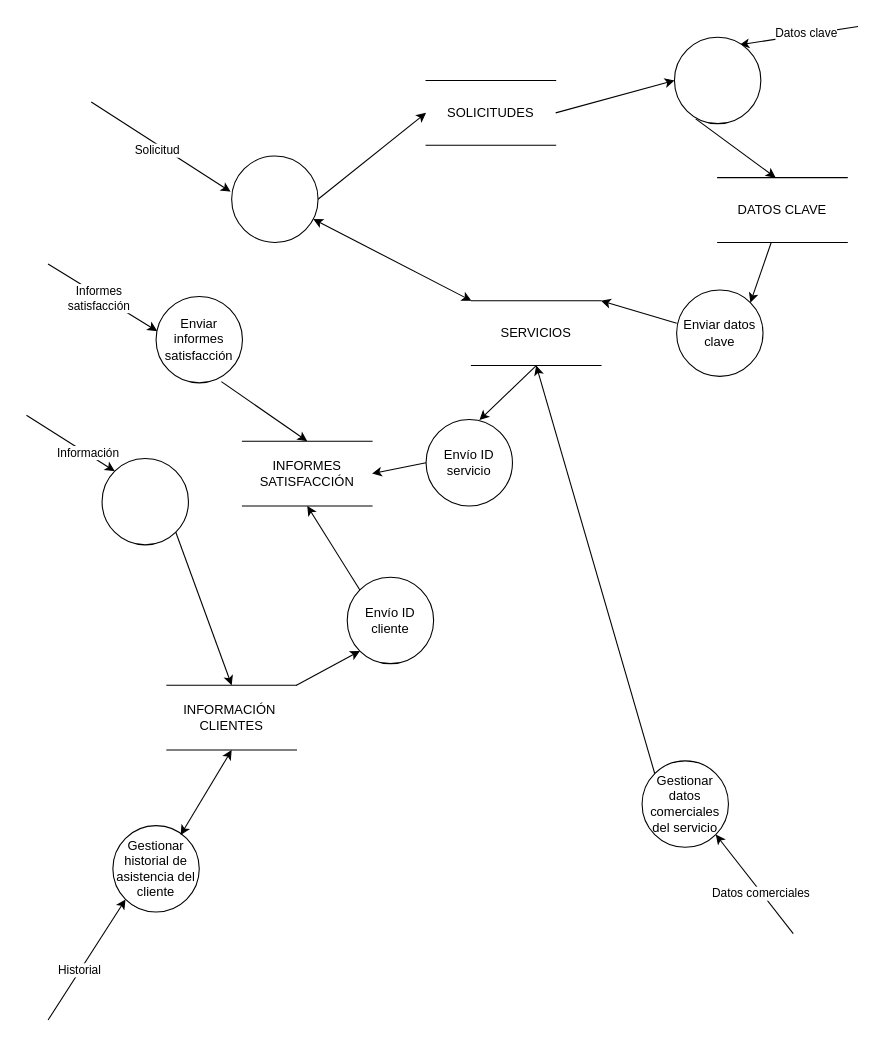
Image size: 886x1048. Some labels were removed from this diagram. The centre of each missing label's shape, as x and y in pixels:
Actualizar información cliente: (144,501)
Gestionar datos clave: (717,80)
Gestionar de solicitudes servicio: (274,198)
